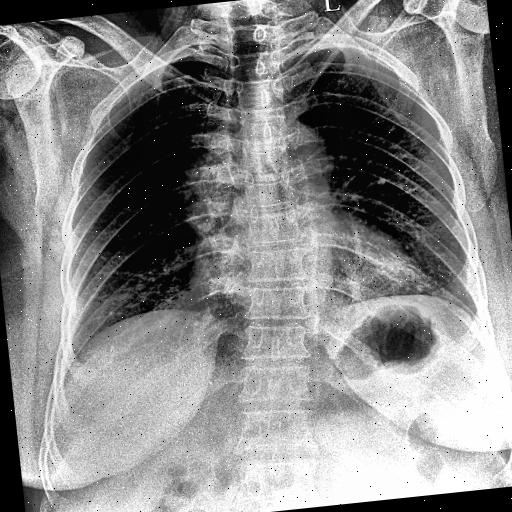0- Aortic enlargement: (166, 96, 360, 258), (164, 84, 370, 204)
7- Lung Opacity: (167, 96, 253, 232), (397, 216, 483, 320)
